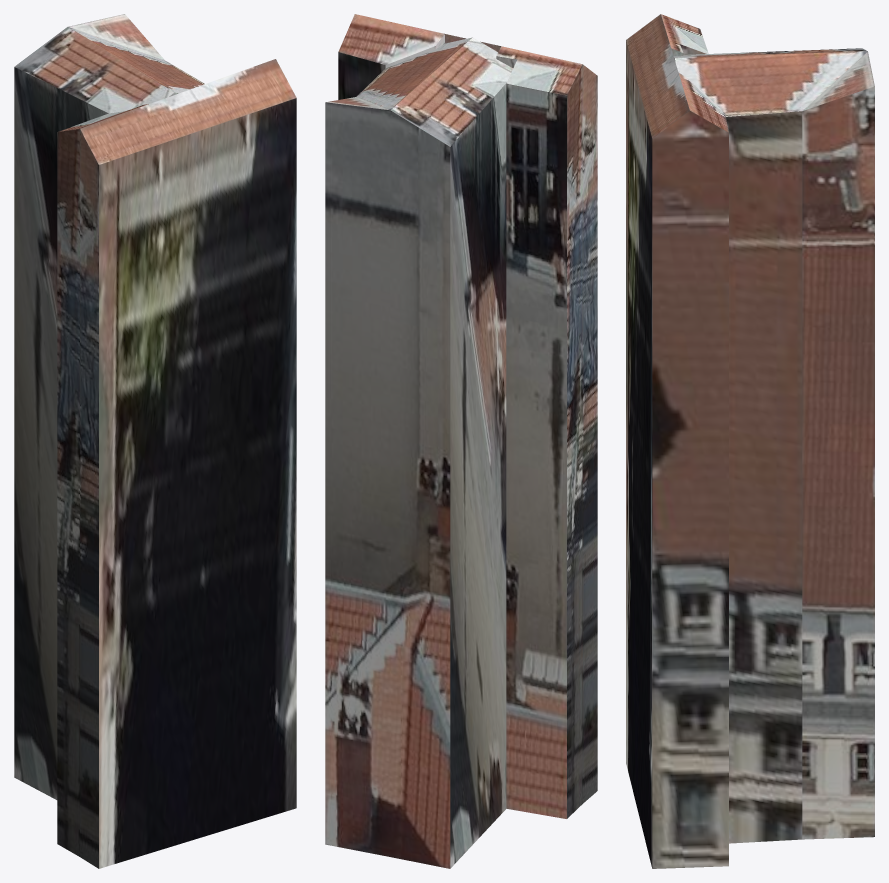
The picture shows the model from 3 angles, left to right: view 1: azimuth 30°, elevation 25°; view 2: azimuth 150°, elevation 25°; view 3: azimuth 270°, elevation 25°; orthographic projection. The views are drawn at different scales.
Visible parts, largest first — view 1: Z_UP; view 2: Z_UP; view 3: Z_UP.
Boxes of the visible parts, box(x1,y1,x2,y2) form: Z_UP: box(14, 14, 296, 868); Z_UP: box(325, 14, 597, 868); Z_UP: box(626, 14, 874, 868).
Bounding box in the file's own units: 7.71 × 25.1 × 7.47.
Materials: 2 (1 with a texture image).
